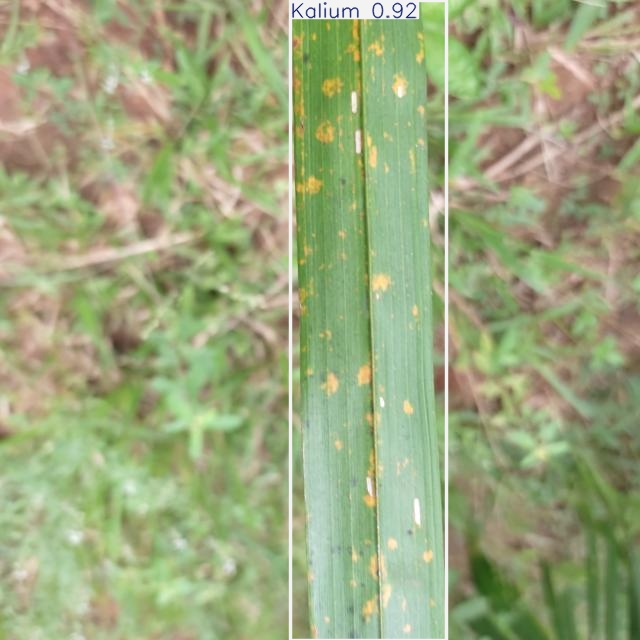Kalium: (290, 0, 446, 640)
